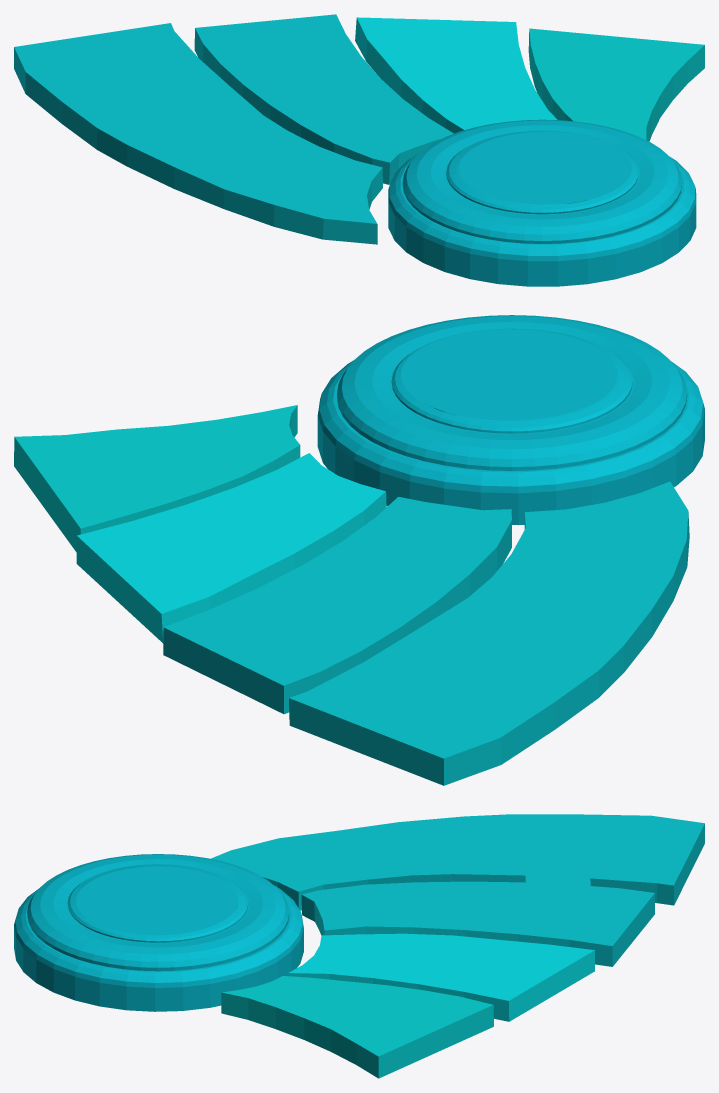
The model's file is menu_4B - Principal.fbx.
The picture shows the model from 3 angles, top to bottom: view 1: azimuth 30°, elevation 25°; view 2: azimuth 150°, elevation 25°; view 3: azimuth 270°, elevation 25°; orthographic projection. The views are drawn at different scales.
Parts seen in each view (by area): view 1: Cylinder.001, Cylinder.005, Cylinder.004, Cylinder.002, Cylinder.003; view 2: Cylinder.001, Cylinder.005, Cylinder.004, Cylinder.002, Cylinder.003; view 3: Cylinder.001, Cylinder.005, Cylinder.004, Cylinder.003, Cylinder.002.
Boxes of the visible parts, left/top/right/bottom form: Cylinder.001: left=388, top=119, right=696, bottom=286; Cylinder.005: left=14, top=23, right=382, bottom=244; Cylinder.004: left=194, top=14, right=453, bottom=184; Cylinder.002: left=355, top=17, right=557, bottom=133; Cylinder.003: left=528, top=28, right=704, bottom=141; Cylinder.001: left=317, top=315, right=704, bottom=525; Cylinder.005: left=289, top=481, right=689, bottom=785; Cylinder.004: left=163, top=497, right=511, bottom=714; Cylinder.002: left=76, top=453, right=386, bottom=643; Cylinder.003: left=14, top=405, right=300, bottom=552; Cylinder.001: left=14, top=854, right=303, bottom=1011; Cylinder.005: left=210, top=814, right=704, bottom=910; Cylinder.004: left=301, top=881, right=654, bottom=966; Cylinder.003: left=221, top=976, right=493, bottom=1078; Cylinder.002: left=288, top=933, right=594, bottom=1021.
Bounding box in the file's own units: 401 × 40.08 × 476.
